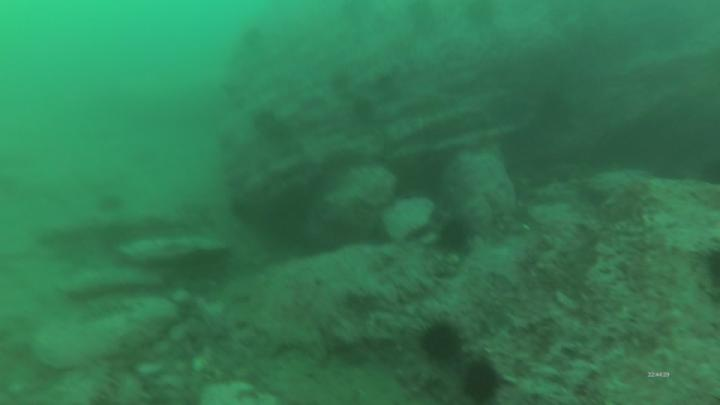echinus: (421, 318, 468, 366), (460, 359, 505, 405), (436, 217, 476, 256), (351, 94, 381, 128), (403, 1, 437, 30), (468, 1, 498, 31), (251, 112, 282, 141), (95, 193, 129, 217), (238, 24, 265, 51), (328, 69, 356, 94), (341, 1, 376, 18)
